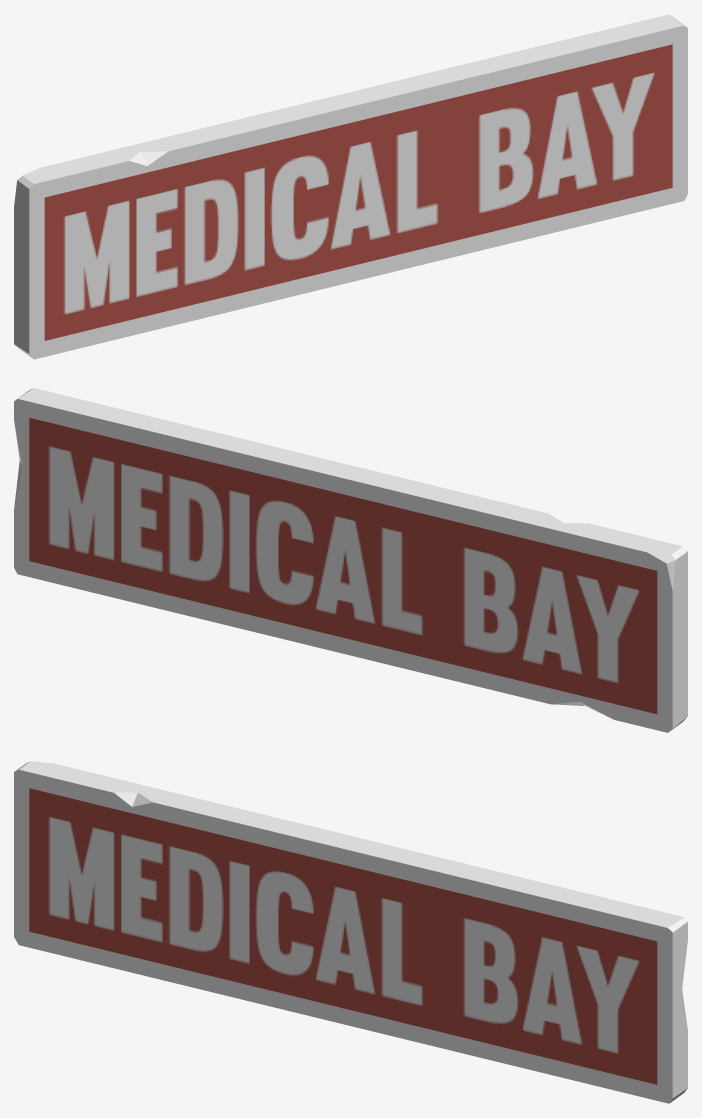
The model's file is SM_Sign_MedicalBay_01.fbx.
The picture shows the model from 3 angles, top to bottom: view 1: azimuth 30°, elevation 25°; view 2: azimuth 150°, elevation 25°; view 3: azimuth 330°, elevation 25°; orthographic projection.
Parts seen in each view (by area): view 1: SM_Sign_MedicalBay_01; view 2: SM_Sign_MedicalBay_01; view 3: SM_Sign_MedicalBay_01.
Part boxes in pixels (box(x1,y1,x2,y2)): SM_Sign_MedicalBay_01: box(14, 14, 687, 359); SM_Sign_MedicalBay_01: box(14, 388, 687, 732); SM_Sign_MedicalBay_01: box(14, 761, 687, 1103).
Bounding box in the file's own units: 361 × 91.8 × 14.42.
Materials: 1 (1 with a texture image).
